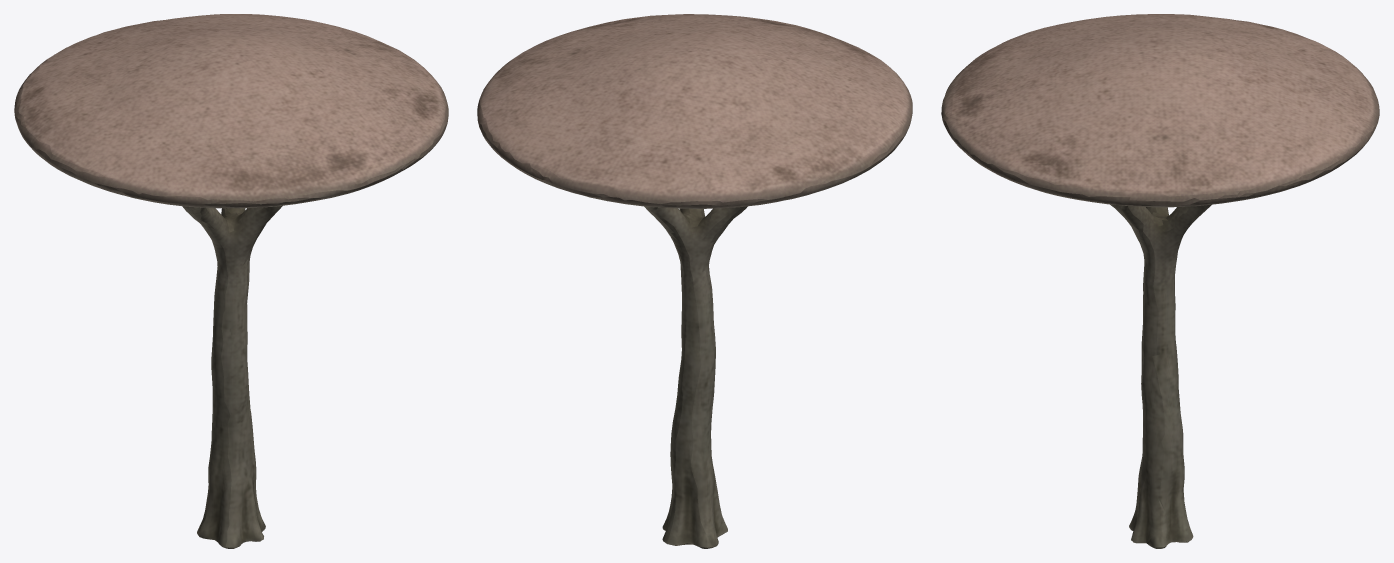
3 renders of one model, left to right at view 1: azimuth 30°, elevation 25°; view 2: azimuth 150°, elevation 25°; view 3: azimuth 270°, elevation 25°, orthographic.
Parts seen in each view (by area): view 1: world; view 2: world; view 3: world.
Boxes of the visible parts, x1=… form: world: x1=14, y1=14, x2=448, y2=548; world: x1=477, y1=14, x2=912, y2=548; world: x1=941, y1=14, x2=1379, y2=548.
Size of the model in its own units: 0.8183 by 1 by 0.8299.
1 material, 1 textured.
